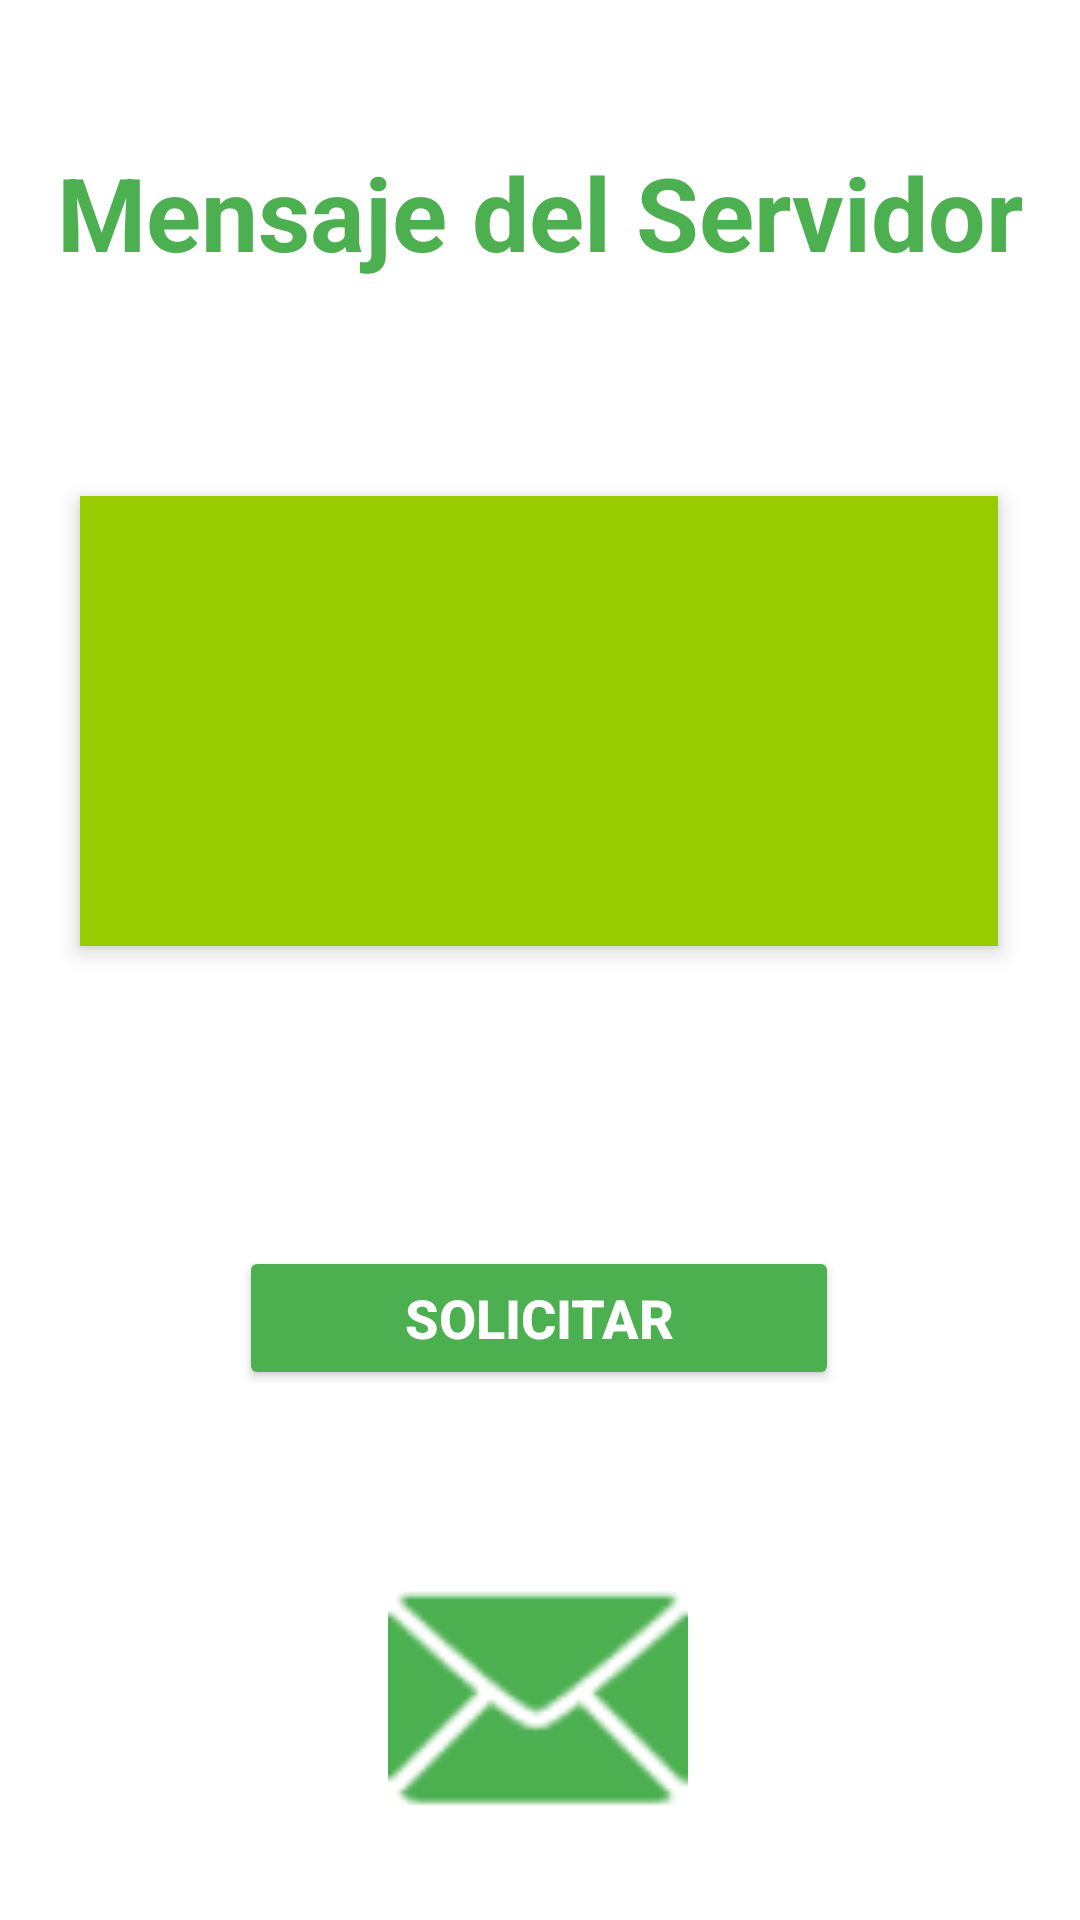

Named icons in this screenshot (1080x1920) and their centers, (x,y):
email: (538,1698)
